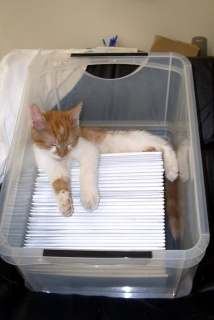Cat: (30, 100, 177, 239)
